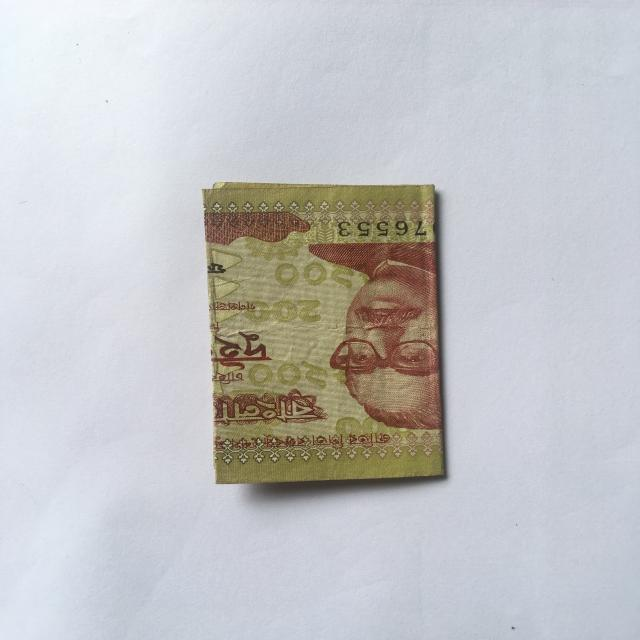Taka: (196, 173, 452, 498)
